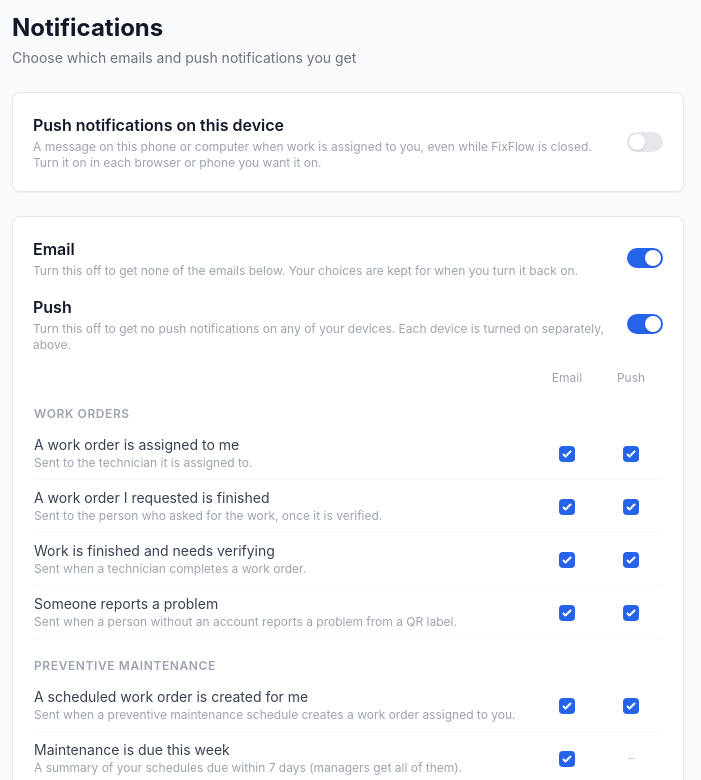
NotificationsPage › push on this device › turns on for this device when the person allows it, and then offers a test
The image size is (701, 780).
expect the button "send a test" is not shown: met
Click the switch named "on this device": click(645, 142) x1=627 y1=132 x2=663 y2=152
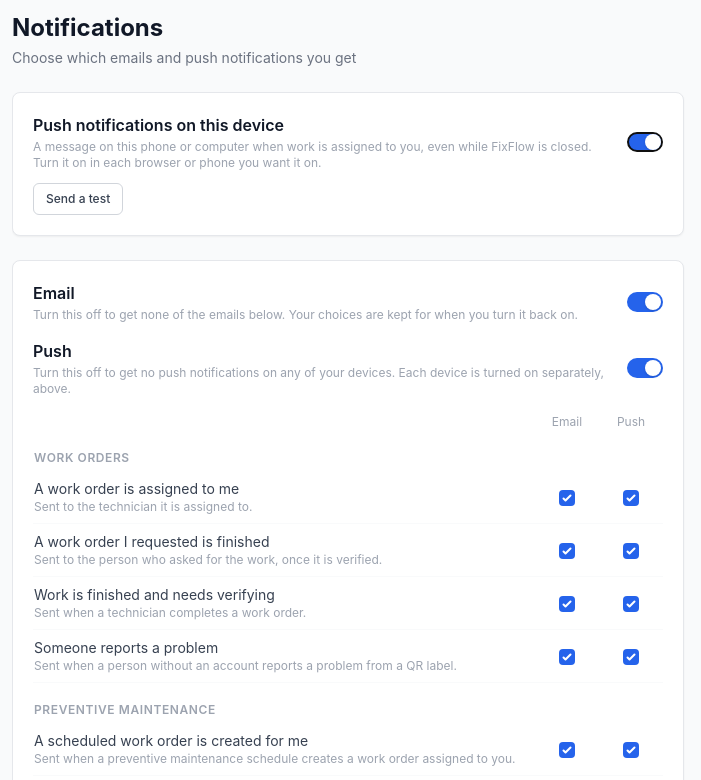
expect the switch named "on this device" is checked: met, box x1=627 y1=132 x2=663 y2=152
Click the button "Send a test": click(78, 199) x1=33 y1=183 x2=123 y2=215
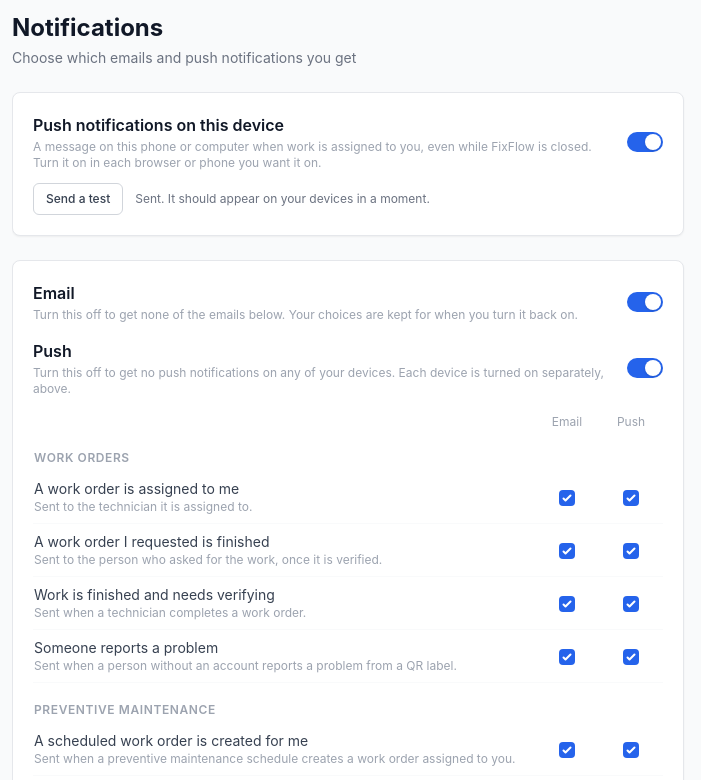
expect the text "Sent. It should appear on your devices in a moment." is shown: met, box x1=135 y1=191 x2=430 y2=207
